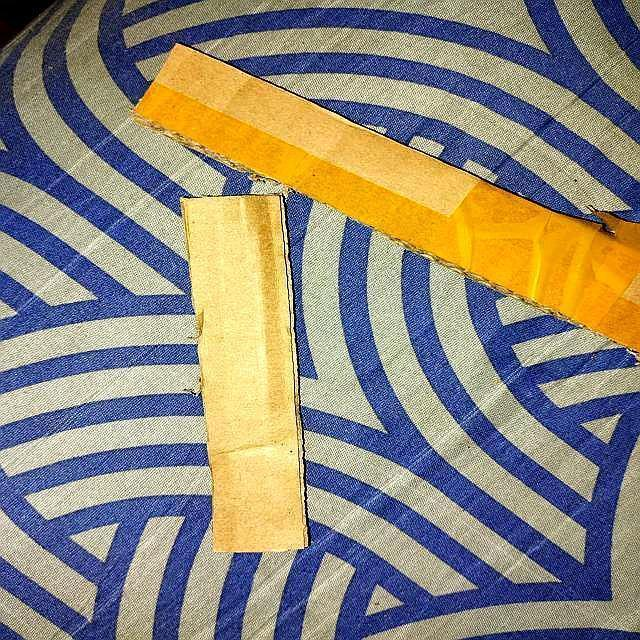Biodegradable: (130, 34, 640, 362), (181, 195, 309, 551)
